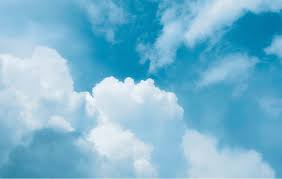sky: (1, 2, 281, 179)
